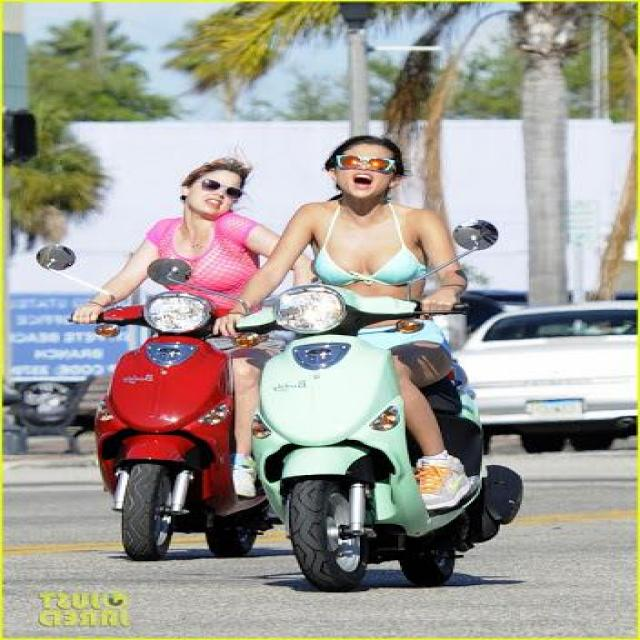Not Wearing Helmet: (179, 116, 286, 232), (335, 143, 410, 212)
